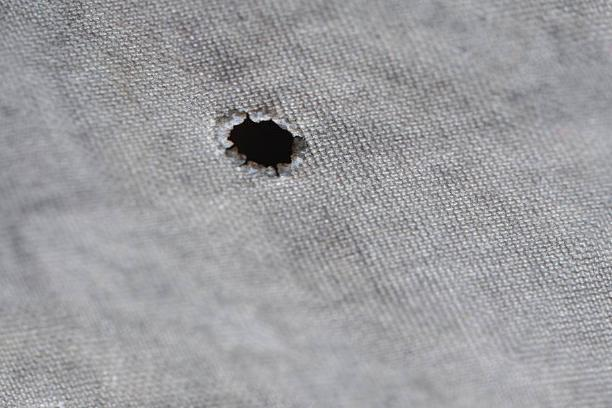hole: (211, 109, 312, 179)
